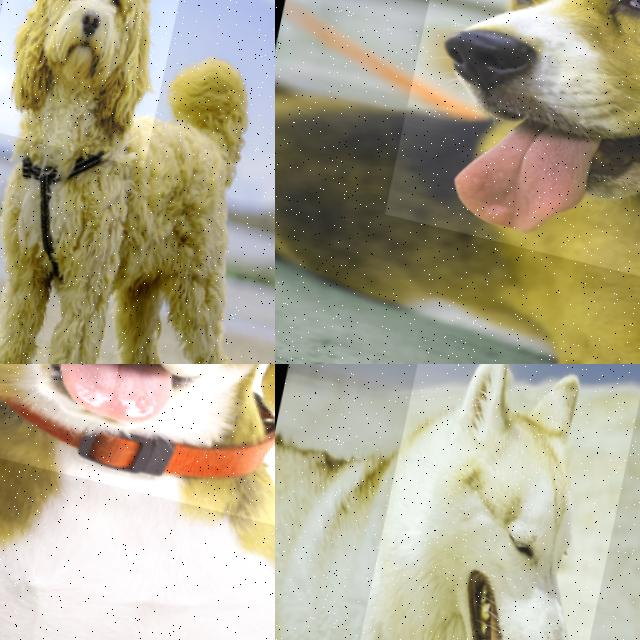beagle: (383, 0, 640, 326), (0, 364, 275, 544)
husky: (339, 364, 640, 640)
poodle: (0, 0, 194, 164)
